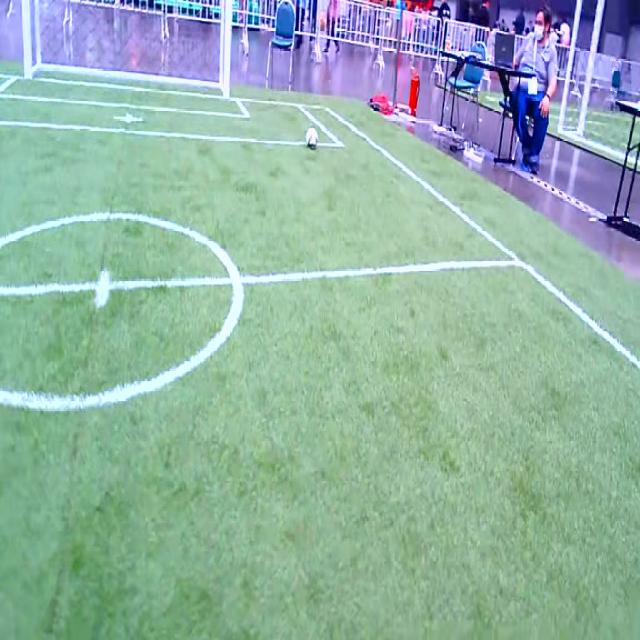ball: (306, 127, 318, 149)
